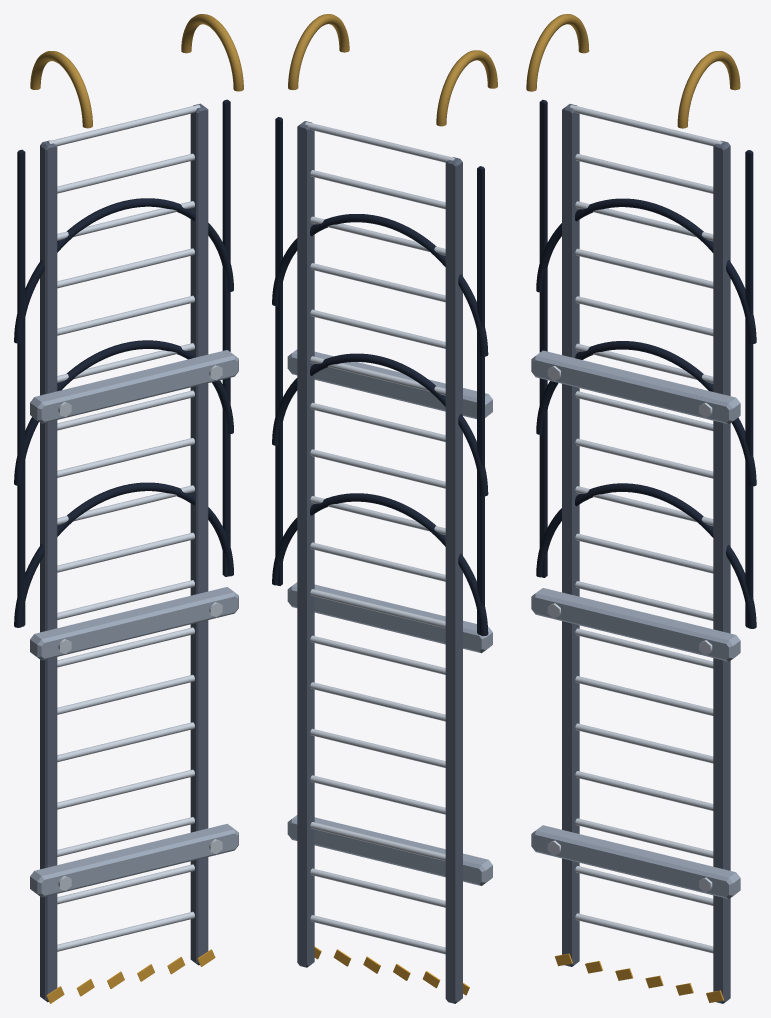
Rendered from shared_ladder_540.glb.
3 renders of one model, left to right at view 1: azimuth 30°, elevation 25°; view 2: azimuth 150°, elevation 25°; view 3: azimuth 330°, elevation 25°, orthographic.
Parts seen in each view (by area): view 1: ladder_stringer1, ladder_stringer-1, ladder_flange0, ladder_flange2, ladder_flange1, ladder_hoop_rail-1, ladder_hoop_rail1, ladder_hoop2, ladder_hoop0, ladder_hoop1, ladder_hook1, ladder_hook-1 (+19 smaller); view 2: ladder_stringer-1, ladder_stringer1, ladder_flange0, ladder_flange1, ladder_flange2, ladder_hoop_rail1, ladder_hoop_rail-1, ladder_hoop0, ladder_hoop2, ladder_hoop1, ladder_hook-1, ladder_hook1 (+19 smaller); view 3: ladder_stringer1, ladder_stringer-1, ladder_flange2, ladder_flange0, ladder_flange1, ladder_hoop_rail1, ladder_hoop_rail-1, ladder_hoop0, ladder_hoop2, ladder_hoop1, ladder_hook1, ladder_hook-1 (+19 smaller).
Part boxes in pixels (box(x1,y1,x2,y2)): ladder_stringer1: box(190, 103, 208, 965); ladder_stringer-1: box(40, 140, 57, 1002); ladder_flange0: box(30, 823, 238, 897); ladder_flange2: box(30, 350, 238, 423); ladder_flange1: box(30, 587, 238, 660); ladder_hoop_rail-1: box(17, 149, 25, 626); ladder_hoop_rail1: box(222, 99, 230, 576); ladder_hoop2: box(14, 198, 233, 343); ladder_hoop0: box(14, 482, 233, 627); ladder_hoop1: box(14, 340, 233, 485); ladder_hook1: box(181, 14, 243, 91); ladder_hook-1: box(30, 51, 92, 128); ladder_stringer-1: box(445, 157, 462, 1003); ladder_stringer1: box(297, 121, 314, 967); ladder_flange0: box(287, 815, 492, 885); ladder_flange1: box(287, 582, 492, 653); ladder_flange2: box(287, 349, 492, 419); ladder_hoop_rail1: box(275, 117, 282, 585); ladder_hoop_rail-1: box(477, 166, 484, 634); ladder_hoop0: box(272, 493, 488, 635); ladder_hoop2: box(272, 214, 488, 356); ladder_hoop1: box(272, 353, 488, 496); ladder_hook-1: box(436, 50, 497, 126); ladder_hook1: box(288, 14, 349, 90); ladder_stringer1: box(713, 140, 730, 1003); ladder_stringer-1: box(562, 104, 579, 966); ladder_flange2: box(531, 350, 740, 424); ladder_flange0: box(531, 825, 740, 898); ladder_flange1: box(531, 588, 740, 661); ladder_hoop_rail1: box(745, 150, 753, 627); ladder_hoop_rail-1: box(539, 99, 547, 577); ladder_hoop0: box(536, 483, 756, 628); ladder_hoop2: box(536, 198, 756, 344); ladder_hoop1: box(536, 341, 756, 486); ladder_hook1: box(677, 51, 740, 128); ladder_hook-1: box(526, 14, 589, 91).
Bounding box in the file's own units: 1.45 × 6.04 × 0.66.
